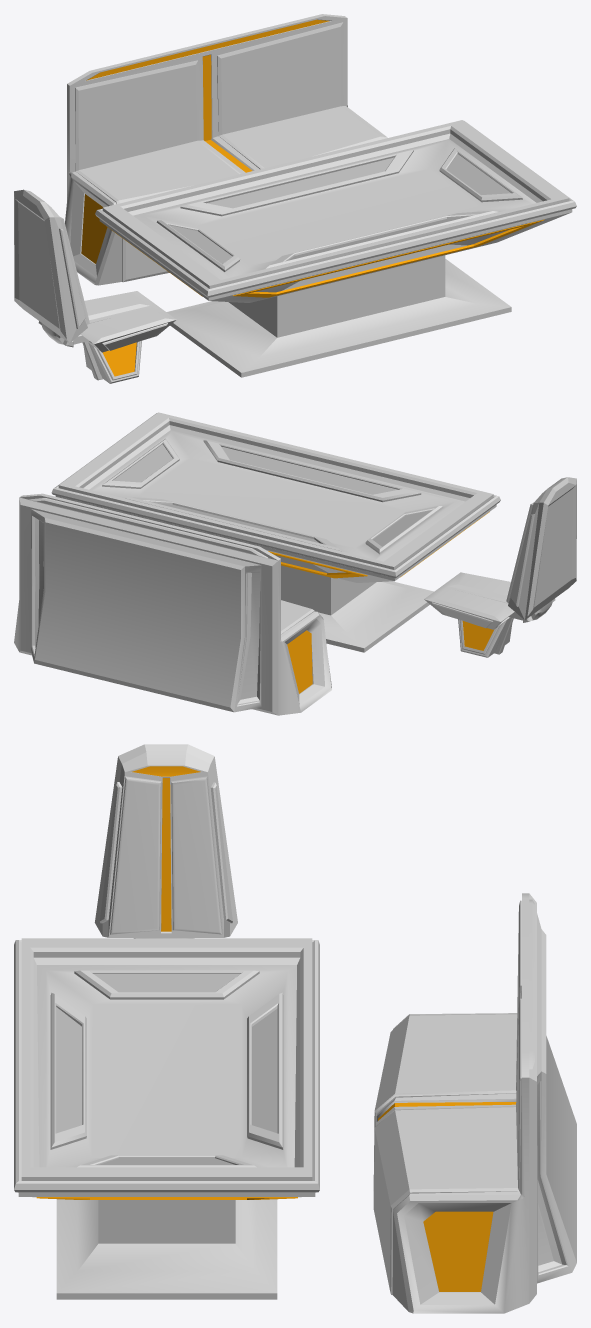
The model's file is furniture_-_galactonauta_game.glb.
3 renders of one model, top to bottom at view 1: azimuth 30°, elevation 25°; view 2: azimuth 150°, elevation 25°; view 3: azimuth 270°, elevation 25°, orthographic. The views are drawn at different scales.
Visible parts, largest first — view 1: Object_3, Object_2, Object_4; view 2: Object_3, Object_4, Object_2; view 3: Object_3, Object_4, Object_2.
Part boxes in pixels (<box>): Object_3: <box>14,14,576,383</box>; Object_2: <box>81,19,544,376</box>; Object_4: <box>97,154,510,373</box>; Object_3: <box>14,412,576,715</box>; Object_4: <box>113,444,499,648</box>; Object_2: <box>268,512,494,693</box>; Object_3: <box>14,744,576,1313</box>; Object_4: <box>56,973,277,1164</box>; Object_2: <box>36,766,516,1291</box>.
Size of the model in its own units: 393 by 152 by 287.
